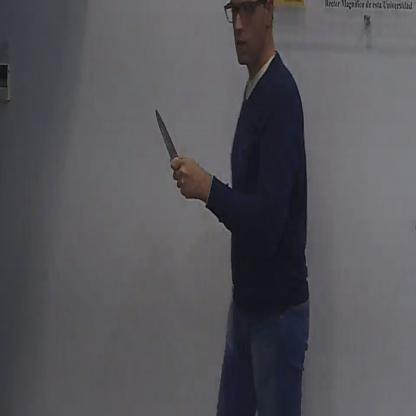knife: (153, 102, 194, 203)
